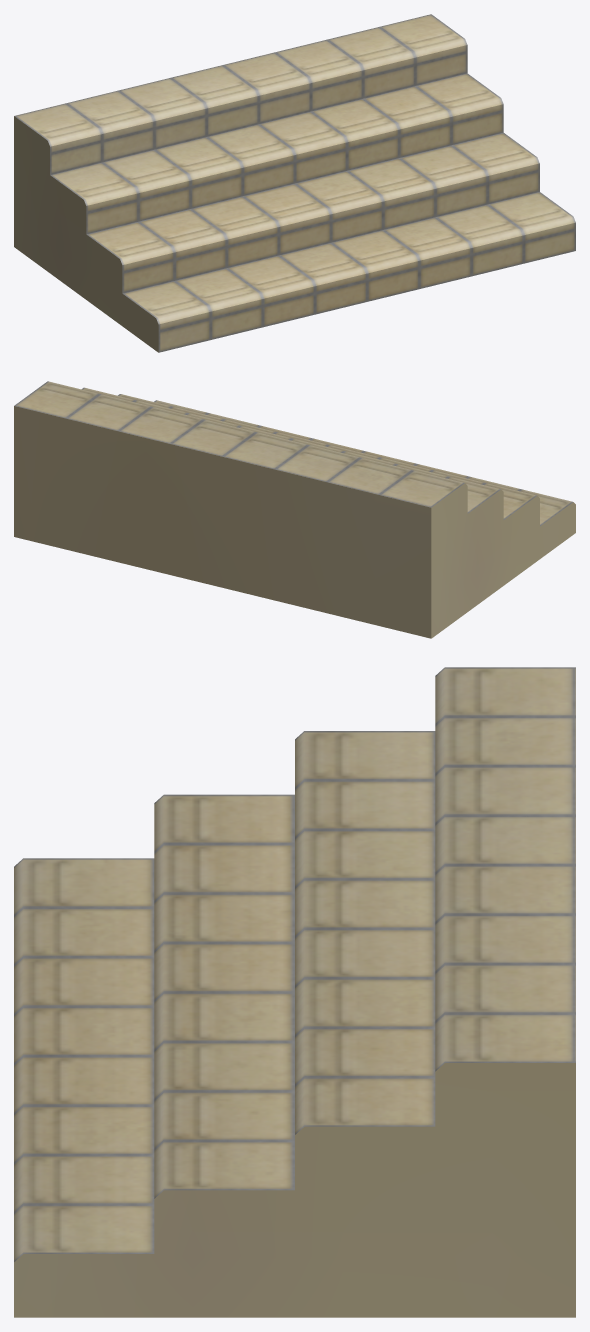
The model's file is set_floor_03b_02_stairs.fbx.
The picture shows the model from 3 angles, top to bottom: view 1: azimuth 30°, elevation 25°; view 2: azimuth 150°, elevation 25°; view 3: azimuth 270°, elevation 25°; orthographic projection. The views are drawn at different scales.
Visible parts, largest first — view 1: set_floor_03b_02_stairs; view 2: set_floor_03b_02_stairs; view 3: set_floor_03b_02_stairs.
Boxes of the visible parts, x1,y1,x2,y2 form: set_floor_03b_02_stairs: (14, 14, 575, 352); set_floor_03b_02_stairs: (14, 381, 575, 638); set_floor_03b_02_stairs: (14, 667, 575, 1317).
Size of the model in its own units: 200 by 60 by 120.
